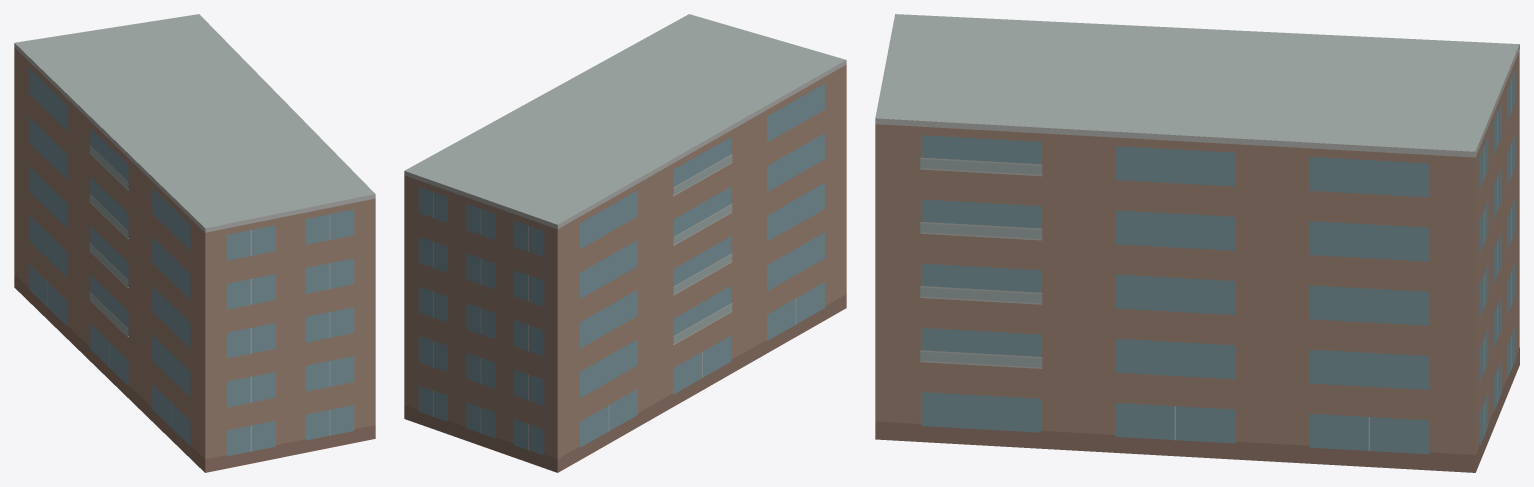
File: survey-upis-32898971.glb
3 renders of one model, left to right at view 1: azimuth 30°, elevation 25°; view 2: azimuth 150°, elevation 25°; view 3: azimuth 270°, elevation 25°, orthographic. The views are drawn at different scales.
Parts seen in each view (by area): view 1: survey-upis-32898971.tmp; view 2: survey-upis-32898971.tmp; view 3: survey-upis-32898971.tmp.
Boxes of the visible parts, x1=… form: survey-upis-32898971.tmp: x1=14, y1=14, x2=375, y2=472; survey-upis-32898971.tmp: x1=404, y1=14, x2=846, y2=472; survey-upis-32898971.tmp: x1=875, y1=14, x2=1519, y2=472.
Bounding box in the file's own units: 12.46 × 13.52 × 24.6.
